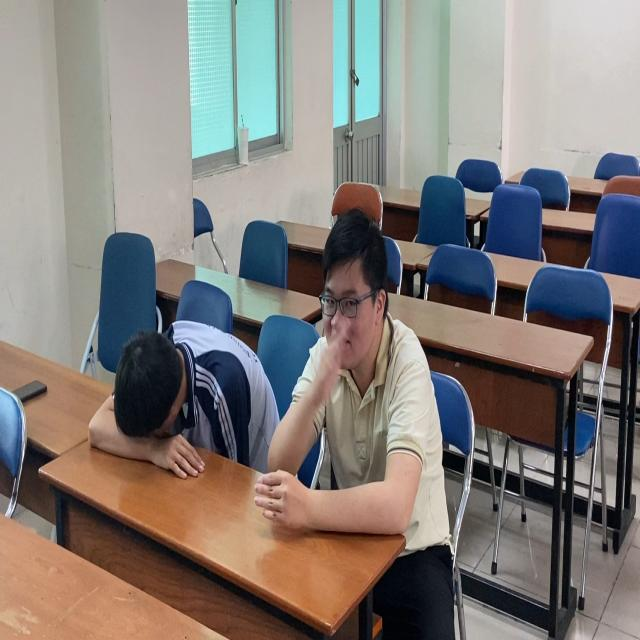sleep: (88, 311, 263, 486)
